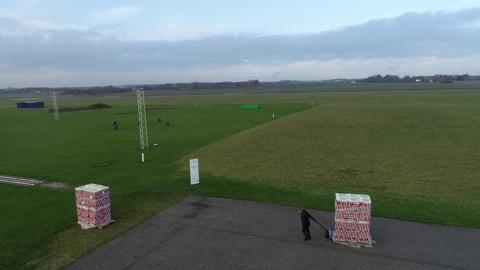RockwoolPallet: (335, 193, 370, 245)
